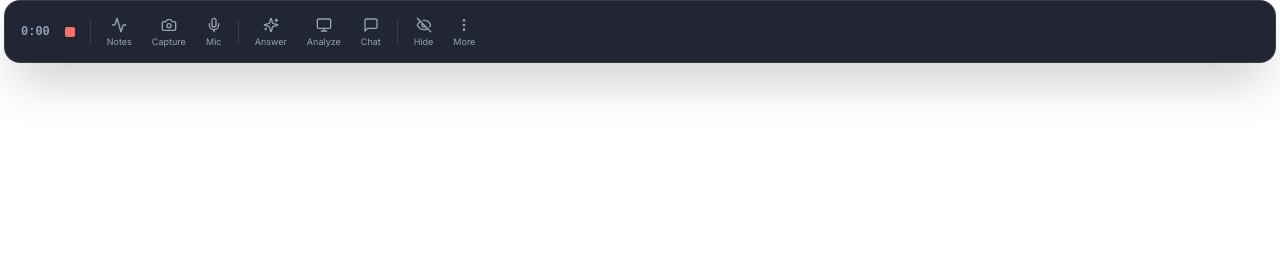
SessionScreen › toggles between panels when switching buttons
What coordinates should you click on to do the following:
click the button with aria-label "ai answer"
I would click on:
 (271, 32)
Its box is [247,9,295,54].
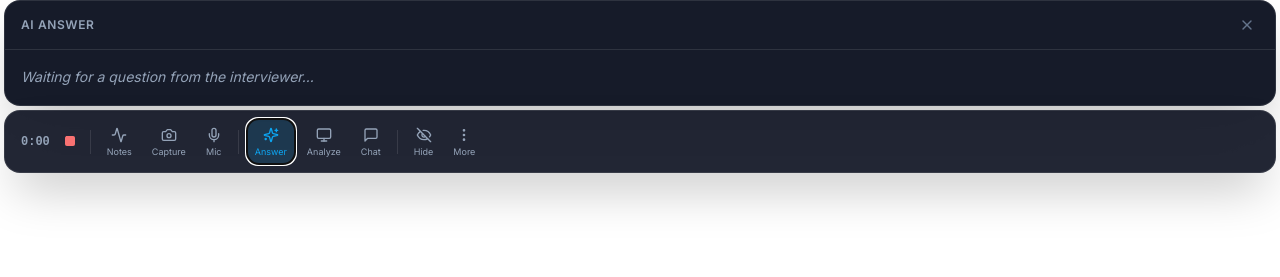
Expected: the text "Waiting for a question from the interviewer..." is shown, [21,68,314,85]
What coordinates should you click on to do the following:
click the button "Chat"
I would click on:
 (371, 141)
Its box is [353,119,389,164].
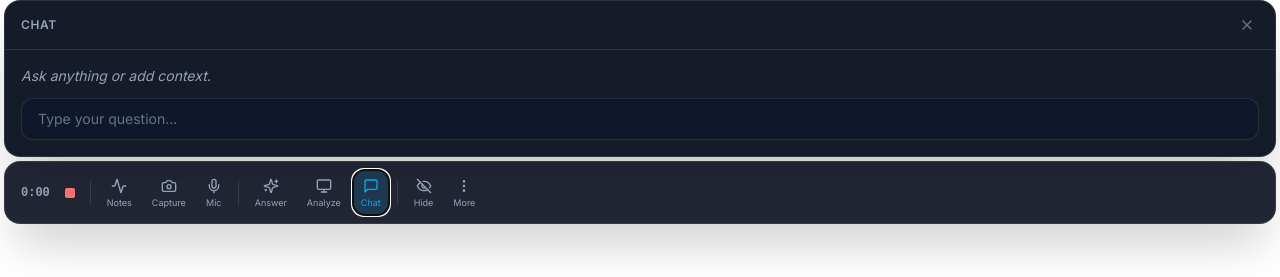
Expected: the field named "ask anything" is shown, [21,98,1259,140]
Expected: the text "Waiting for a question" is gone
